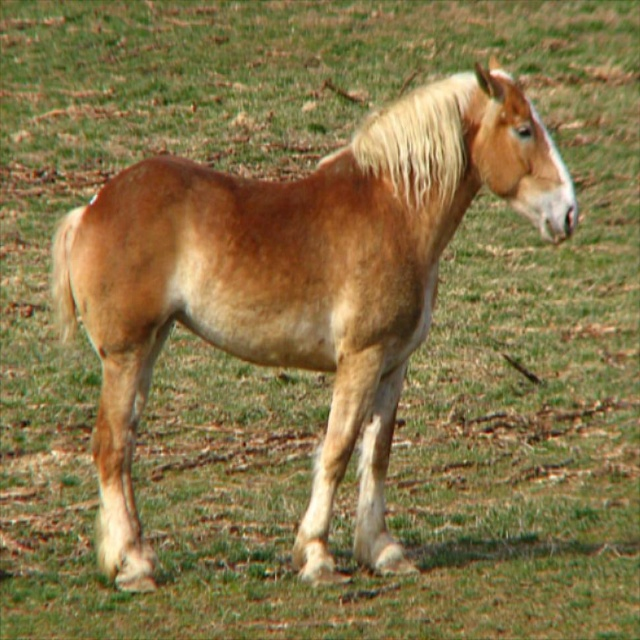Horse: (51, 55, 579, 597)
